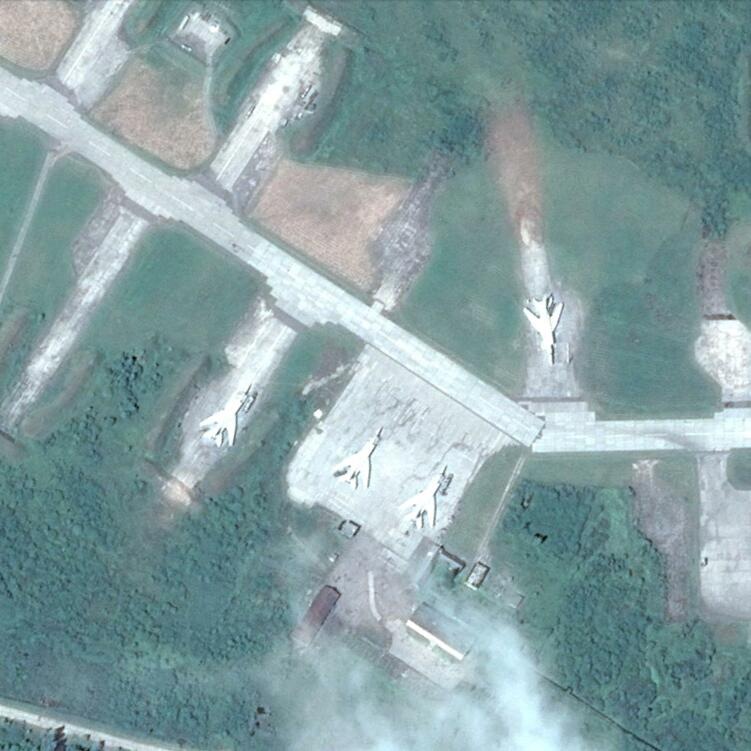A12: (198, 381, 253, 450), (398, 461, 450, 533), (333, 424, 385, 491), (523, 293, 566, 371)
